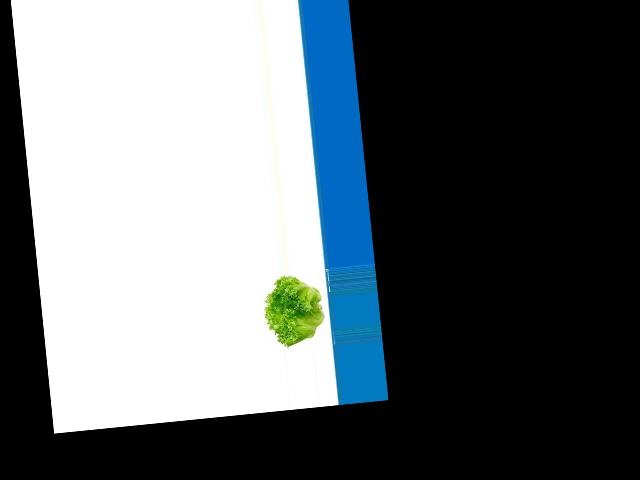lettuce: (259, 272, 331, 347)
